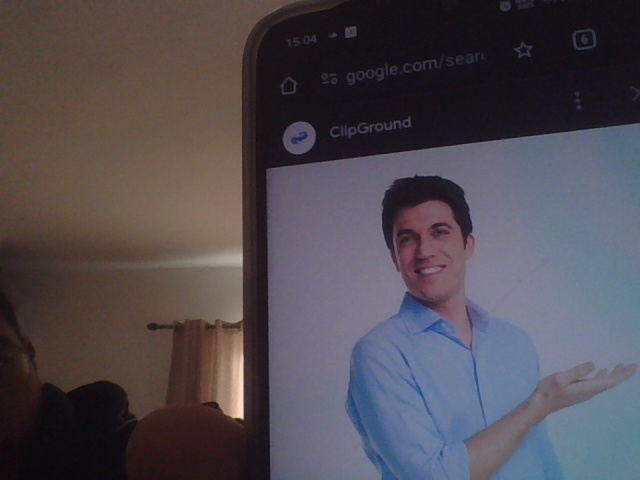fake: (382, 163, 481, 304)
